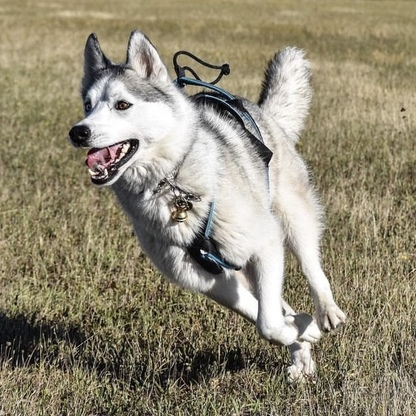husky: (65, 23, 355, 390)
